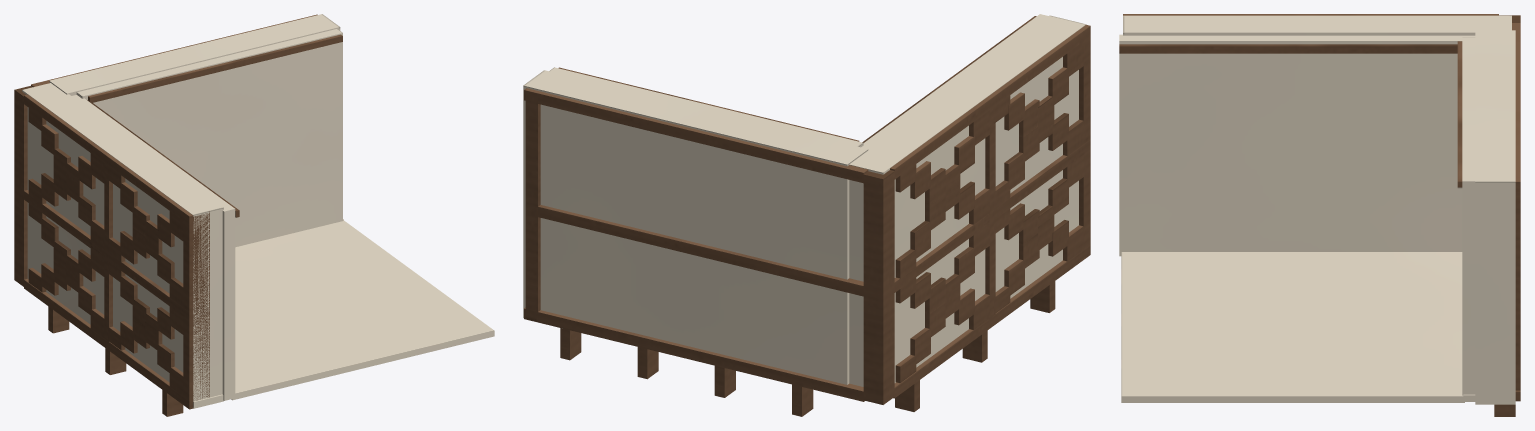
The model's file is med_corner_jetty.glb.
The picture shows the model from 3 angles, left to right: view 1: azimuth 30°, elevation 25°; view 2: azimuth 150°, elevation 25°; view 3: azimuth 270°, elevation 25°; orthographic projection. The views are drawn at different scales.
Visible parts, largest first — view 1: med_corner_jetty; view 2: med_corner_jetty; view 3: med_corner_jetty.
Part boxes in pixels (box(x1,y1,x2,y2)): med_corner_jetty: box(14, 14, 494, 416); med_corner_jetty: box(523, 14, 1090, 416); med_corner_jetty: box(1119, 14, 1520, 416).
Bounding box in the file's own units: 4.38 × 3.04 × 4.38.
Materials: 1 (1 with a texture image).
